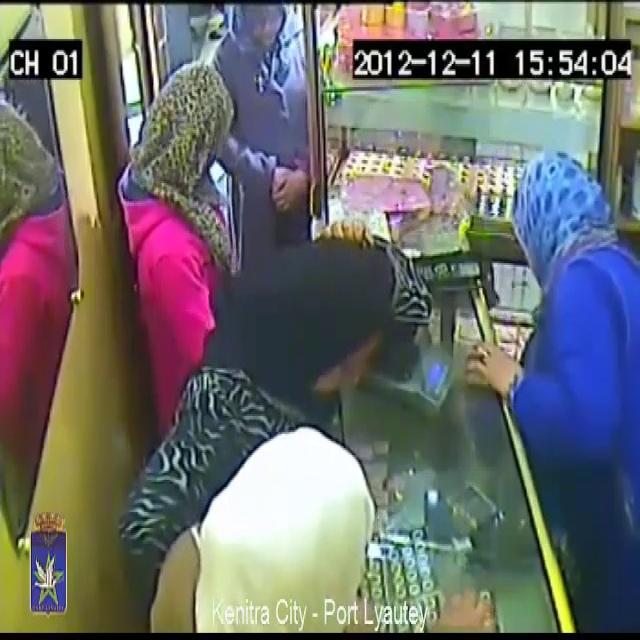normal: (503, 73, 640, 640), (166, 405, 382, 640), (120, 64, 232, 330), (257, 218, 388, 436), (223, 0, 323, 188)
